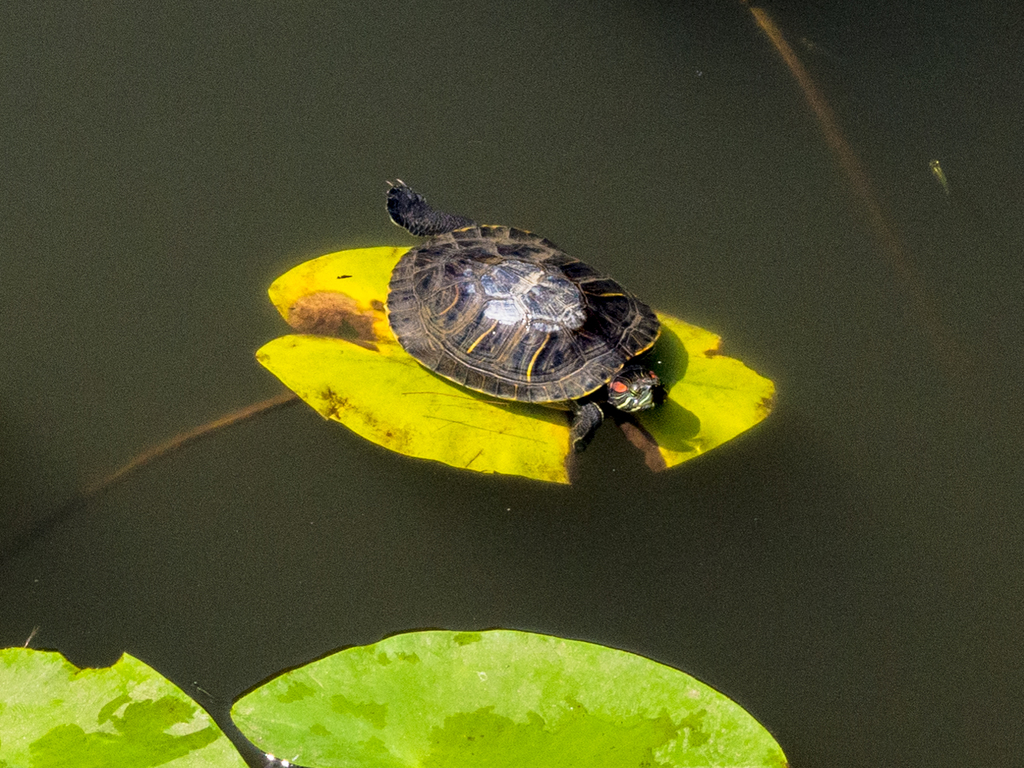Sea turtles: (378, 170, 665, 454)
